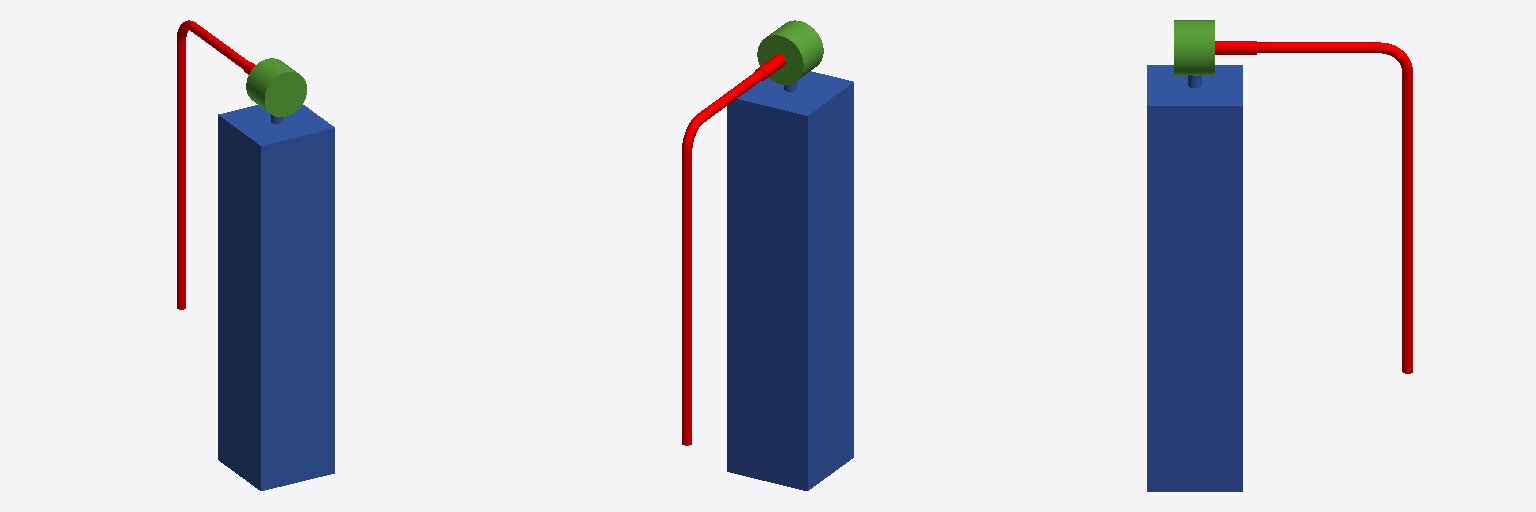
robot.urdf — steval_pendel:
<?xml version="1.0" ?>
<!-- Generated using onshape-to-robot -->
<!-- Onshape document_id: e42e43c310dfcd9f2ea84215 -->
<robot name="steval_pendel">
  <!-- Link base -->
  <link name="base">
    <inertial>
      <origin xyz="-1.11462e-18 -9.98673e-38 0.155083" rpy="0 0 0"/>
      <mass value="4.10342"/>
      <inertia ixx="0.0345736" ixy="0" ixz="0" iyy="0.0345736" iyz="0" izz="0.00334942"/>
    </inertial>
    <!-- Part base -->
    <visual>
      <origin xyz="0 0 0" rpy="0 -0 0"/>
      <geometry>
        <mesh filename="assets/base.stl"/>
      </geometry>
      <material name="base_material">
        <color rgba="0.231373 0.380392 0.705882 1"/>
      </material>
    </visual>
    <collision>
      <origin xyz="0 0 0" rpy="0 -0 0"/>
      <geometry>
        <mesh filename="assets/base.stl"/>
      </geometry>
    </collision>
  </link>
  <!-- Link rotary -->
  <link name="rotary">
    <inertial>
      <origin xyz="-3.60568e-09 -2.17845e-18 -0.0199935" rpy="0 0 0"/>
      <mass value="0.101821"/>
      <inertia ixx="1.78261e-05" ixy="-6.06383e-12" ixz="1.18151e-11" iyy="2.03712e-05" iyz="1.7677e-76" izz="1.78134e-05"/>
    </inertial>
    <!-- Part rotary -->
    <visual>
      <origin xyz="1.71057e-49 0 0.32" rpy="3.14159 -0 1.49614e-65"/>
      <geometry>
        <mesh filename="assets/rotary.stl"/>
      </geometry>
      <material name="rotary_material">
        <color rgba="0.372549 0.654902 0.239216 1"/>
      </material>
    </visual>
    <collision>
      <origin xyz="1.71057e-49 0 0.32" rpy="3.14159 -0 1.49614e-65"/>
      <geometry>
        <mesh filename="assets/rotary.stl"/>
      </geometry>
    </collision>
  </link>
  <!-- Link pendel -->
  <link name="pendel">
    <inertial>
      <origin xyz="1.63456e-20 -0.0771612 -0.10421" rpy="0 0 0"/>
      <mass value="0.0362517"/>
      <inertia ixx="0.000359053" ixy="0" ixz="1.45364e-48" iyy="9.04706e-05" iyz="-0.00010007" izz="0.000268994"/>
    </inertial>
    <!-- Part pendel -->
    <visual>
      <origin xyz="-1.97215e-31 -0.34 0.015" rpy="-1.5708 -4.04854e-45 0"/>
      <geometry>
        <mesh filename="assets/pendel.stl"/>
      </geometry>
      <material name="pendel_material">
        <color rgba="1 0 0 1"/>
      </material>
    </visual>
    <collision>
      <origin xyz="-1.97215e-31 -0.34 0.015" rpy="-1.5708 -4.04854e-45 0"/>
      <geometry>
        <mesh filename="assets/pendel.stl"/>
      </geometry>
    </collision>
  </link>
  <!-- Joint from rotary to pendel -->
<joint name="pendel" type="continuous">
  <origin xyz="-1.73445e-32 -0.015 -0.02" rpy="-1.5708 2.85232e-15 -1.92285e-30"/>
  <parent link="rotary"/>
  <child link="pendel"/>
  <axis xyz="0 0 1"/>
  </joint>
  
  <!-- Joint from base to rotary -->
  <joint name="rotary" type="revolute">
    <origin xyz="-3.26654e-34 -4.34338e-33 0.32" rpy="-3.14159 3.79403e-33 -5.55112e-17"/>
    <parent link="base"/>
    <child link="rotary"/>
    <axis xyz="0 0 1"/>
    <limit effort="10" velocity="10" lower="-4.71239" upper="4.71239"/>
  </joint>
</robot>

--- What the picture shows (computed from the rendered views, not written in the file) ---
Views: 3 orthographic renders of the robot side by side, from view 1: azimuth 30°, elevation 25°; view 2: azimuth 150°, elevation 25°; view 3: azimuth 270°, elevation 25°.
Model steval_pendel with 3 links and 2 joints (1 revolute, 1 continuous), rooted at base, posed every joint at zero.
Visible links, largest first — view 1: base, pendel, rotary; view 2: base, pendel, rotary; view 3: base, pendel, rotary.
Link boxes in pixels (x1,y1,x2,y2): base: [218, 105, 334, 490]; pendel: [177, 20, 255, 309]; rotary: [246, 58, 306, 116]; base: [727, 71, 853, 490]; pendel: [682, 54, 785, 445]; rotary: [757, 20, 823, 84]; base: [1147, 65, 1242, 491]; pendel: [1215, 41, 1412, 373]; rotary: [1174, 20, 1214, 75].
Size in the robot's own frame: 0.07 by 0.194 by 0.36 metres.
Meshes: 3 distinct files referenced, 3 mesh visuals loaded (3 binary STL).
